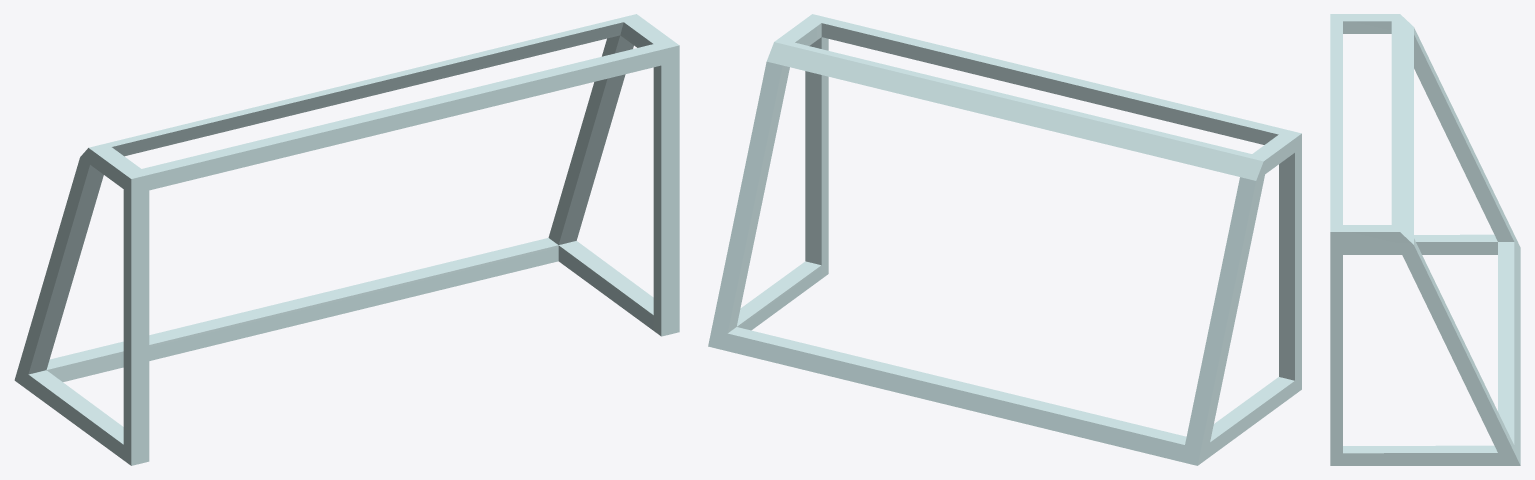
Rendered from STADIUM_Goal_Mesh.fbx.
3 renders of one model, left to right at view 1: azimuth 30°, elevation 25°; view 2: azimuth 150°, elevation 25°; view 3: azimuth 270°, elevation 25°, orthographic. The views are drawn at different scales.
Visible parts, largest first — view 1: STADIUM_Goal_Mesh; view 2: STADIUM_Goal_Mesh; view 3: STADIUM_Goal_Mesh.
Part boxes in pixels (left/top/right/bottom): STADIUM_Goal_Mesh: left=14, top=14, right=679, bottom=465; STADIUM_Goal_Mesh: left=708, top=14, right=1301, bottom=465; STADIUM_Goal_Mesh: left=1330, top=14, right=1520, bottom=465.
Bounding box in the file's own units: 40 × 20 × 14.77.
